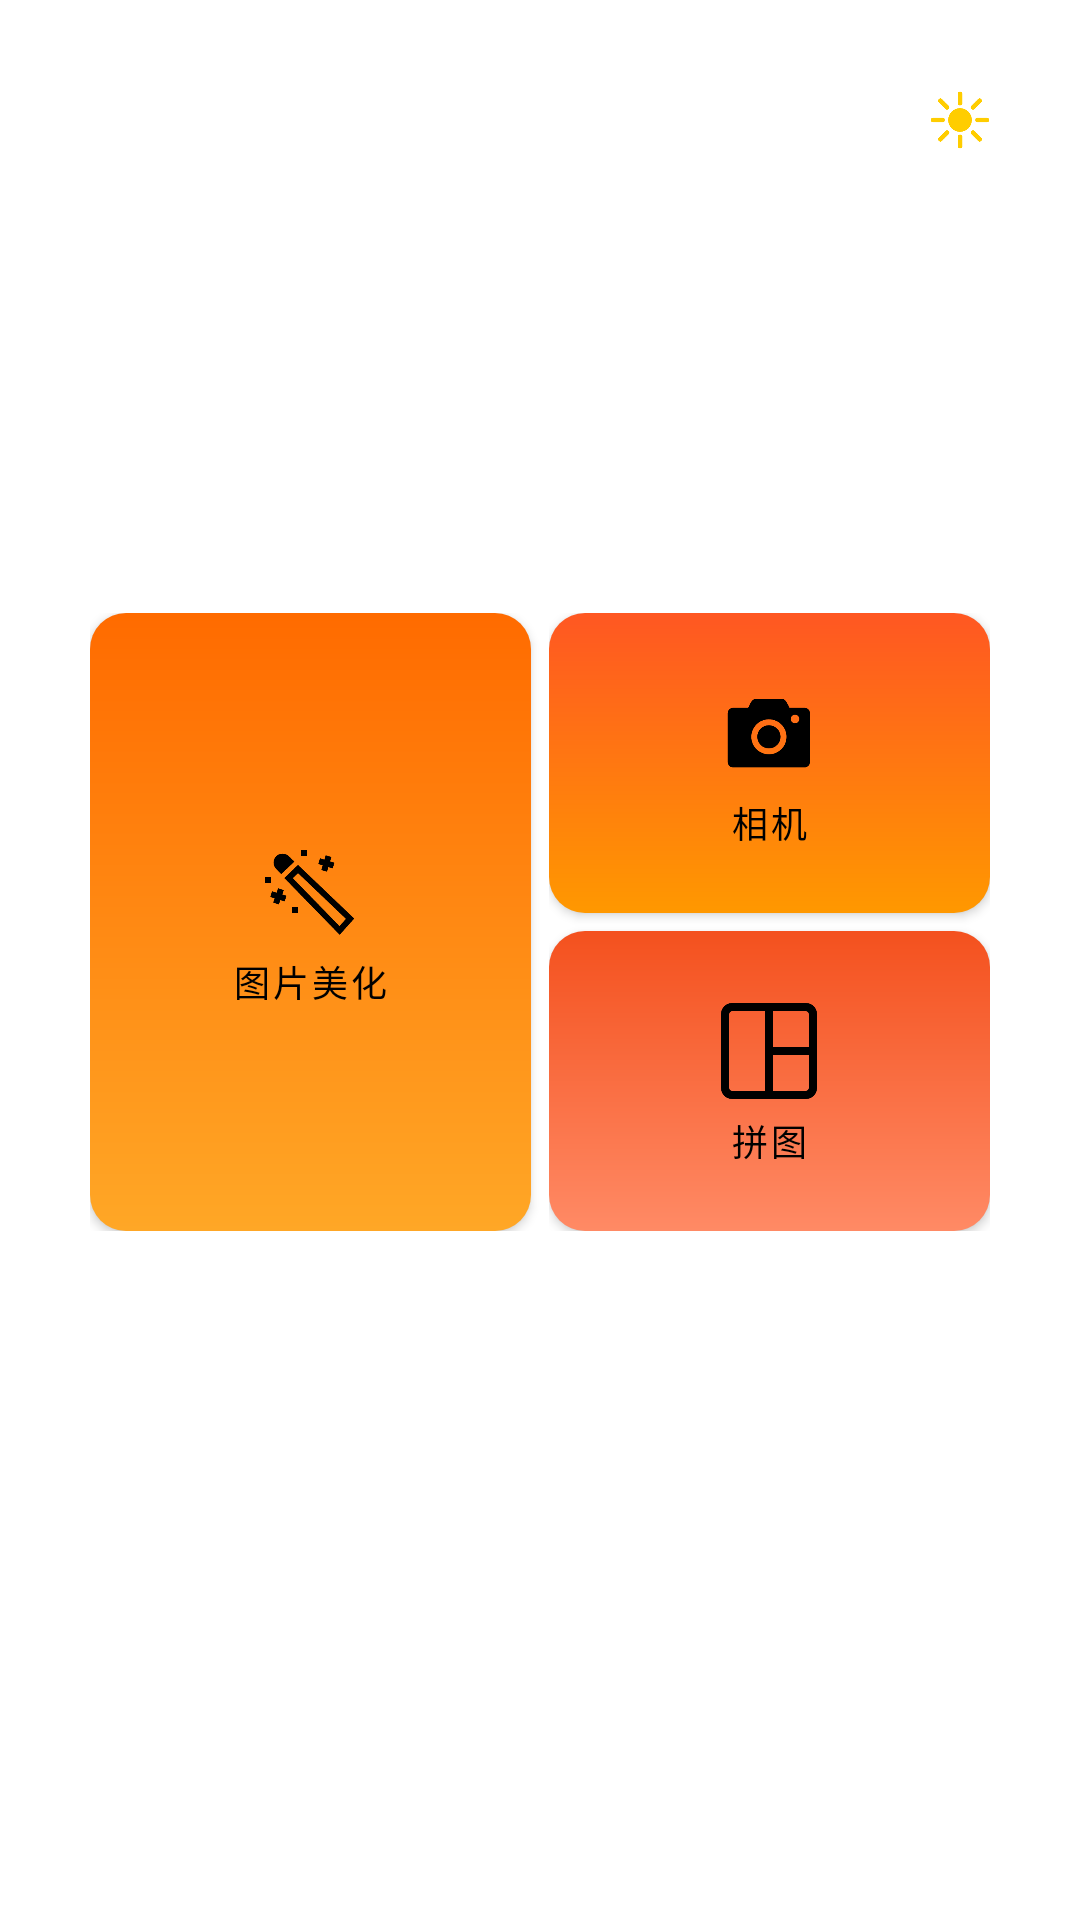

Named icons in this screenshot (1080px×1920px) and their centers, [x,y]:
切换夜间模式: [960,120]
